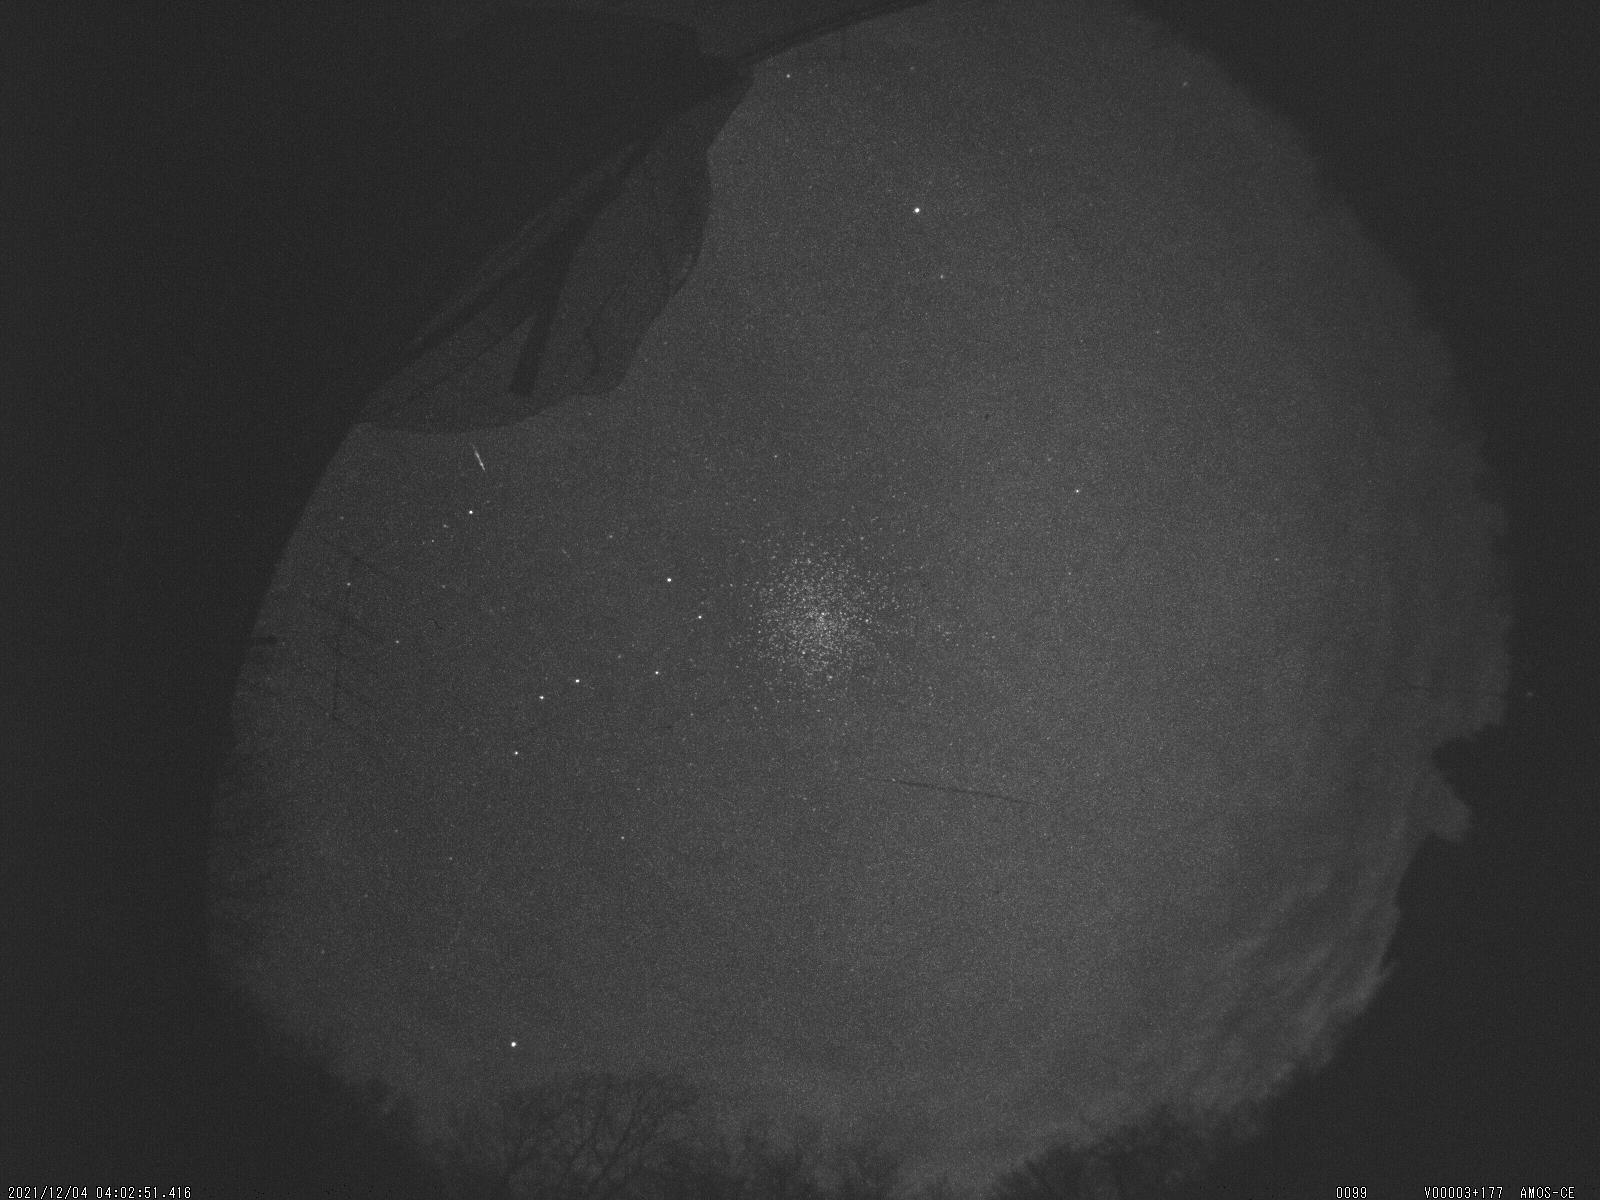Meteor: (467, 442, 492, 486)
